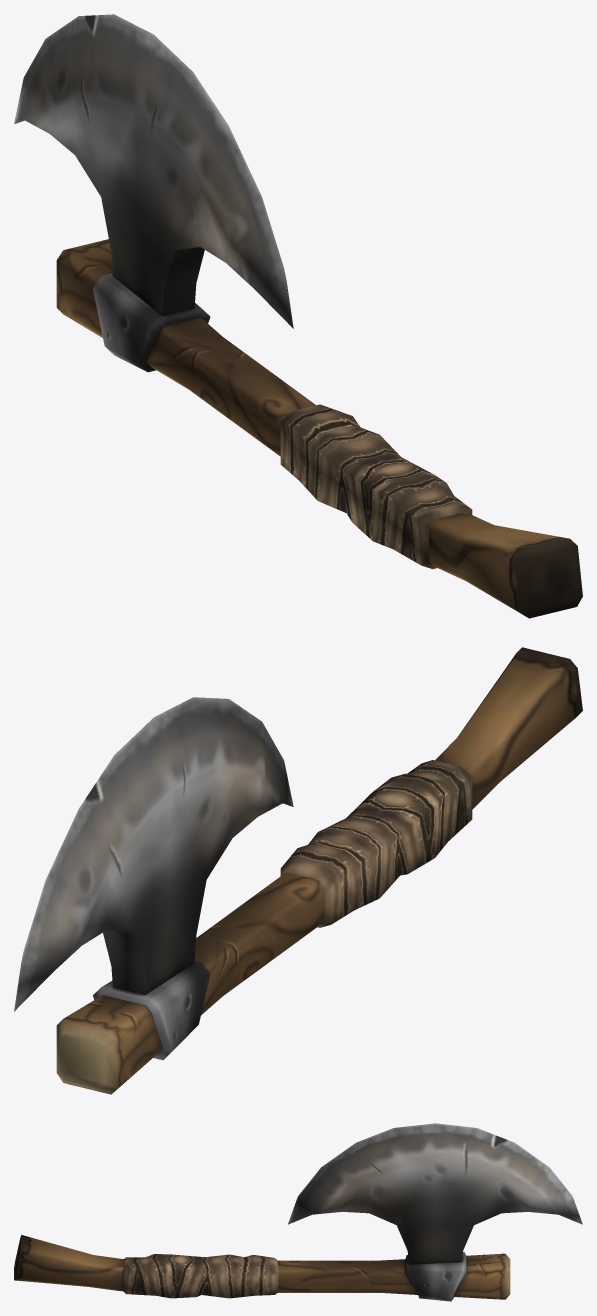
The model's file is Axe_a.fbx.
3 renders of one model, top to bottom at view 1: azimuth 30°, elevation 25°; view 2: azimuth 150°, elevation 25°; view 3: azimuth 270°, elevation 25°, orthographic. The views are drawn at different scales.
Parts seen in each view (by area): view 1: Axe_a; view 2: Axe_a; view 3: Axe_a.
Boxes of the visible parts, x1,y1,x2,y2 form: Axe_a: (14,14,582,618); Axe_a: (14,647,582,1094); Axe_a: (14,1123,582,1301).
Size of the model in its own units: 9.48 by 43.61 by 131.
